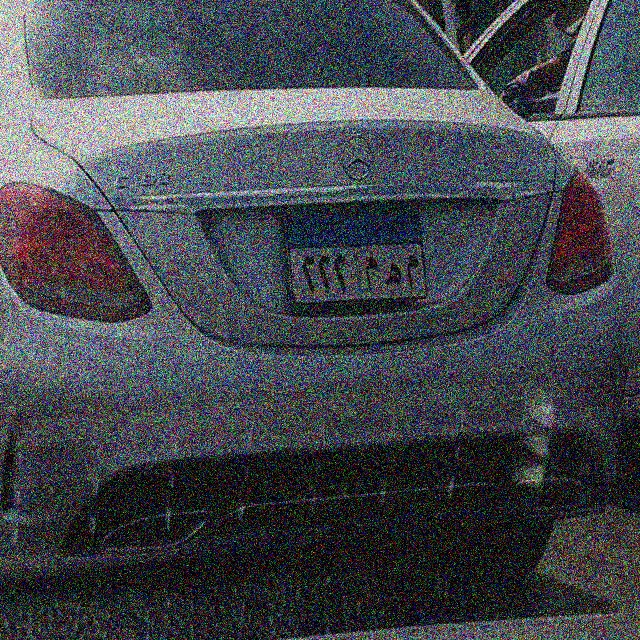License Plate: (282, 205, 431, 311)
